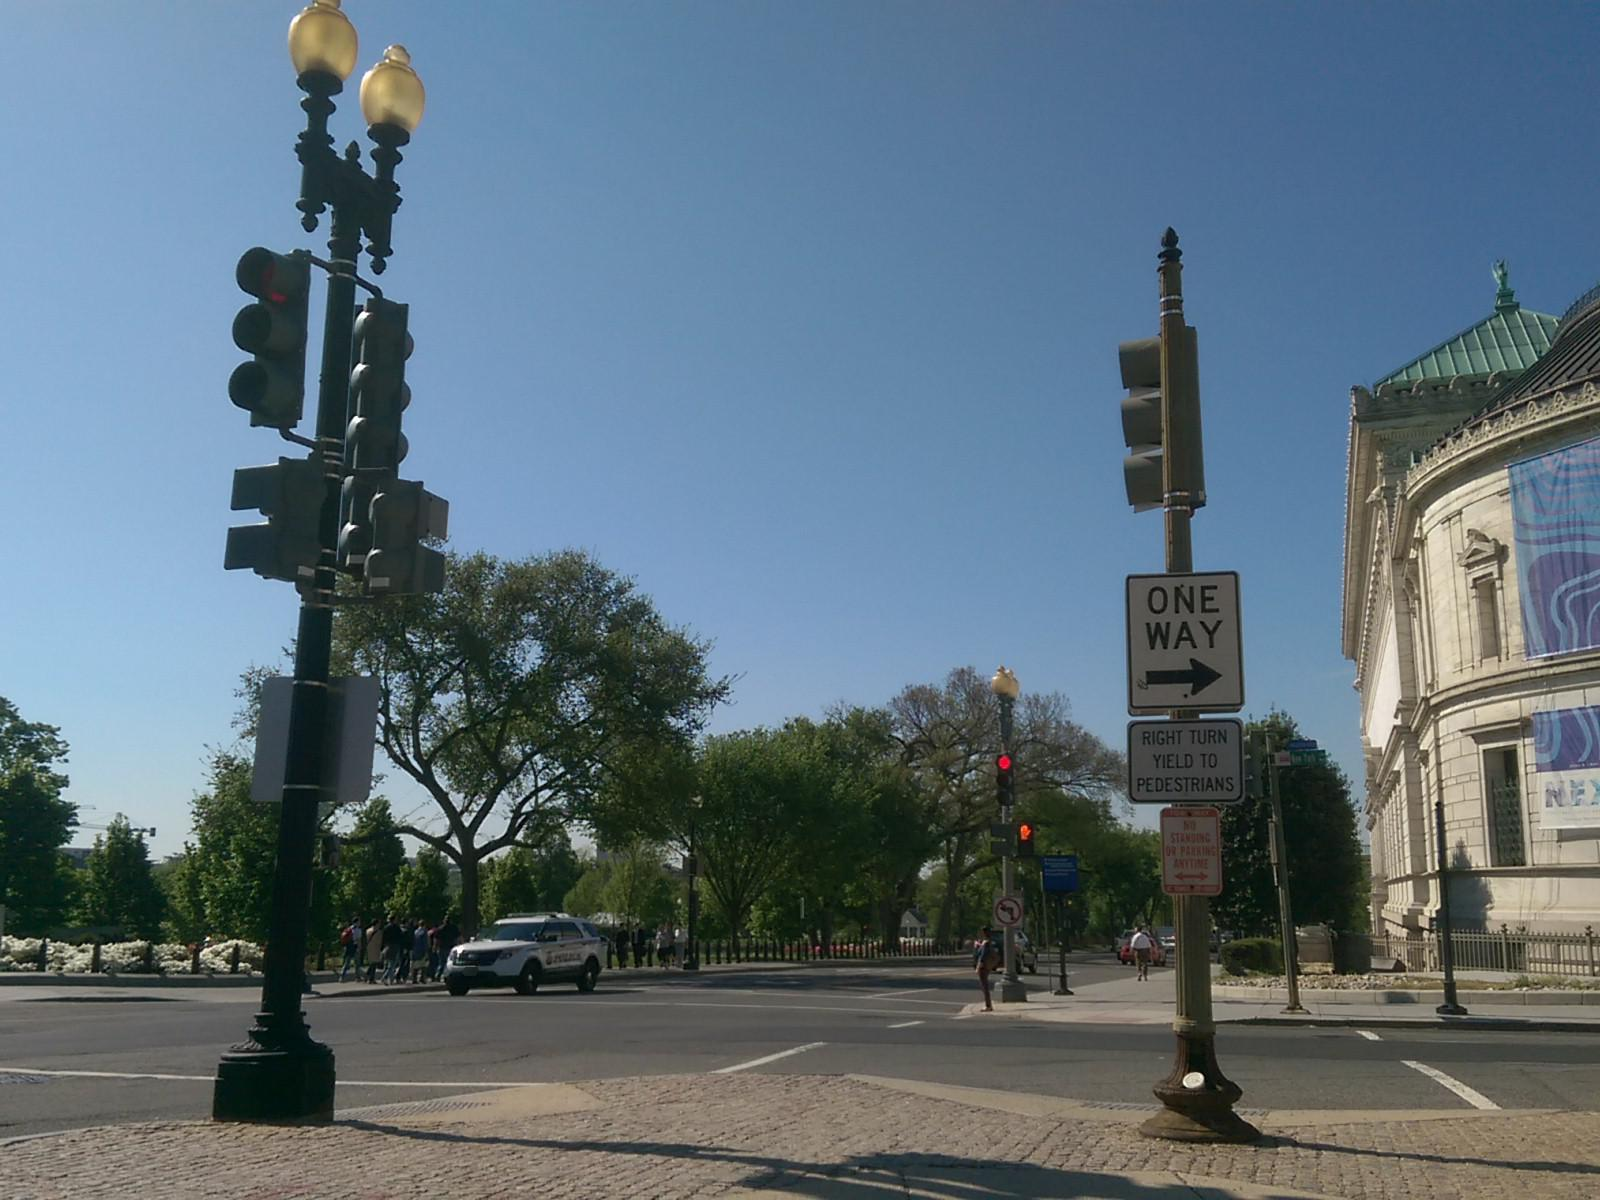vinyl banner: (1506, 424, 1600, 661), (1528, 697, 1600, 831)
